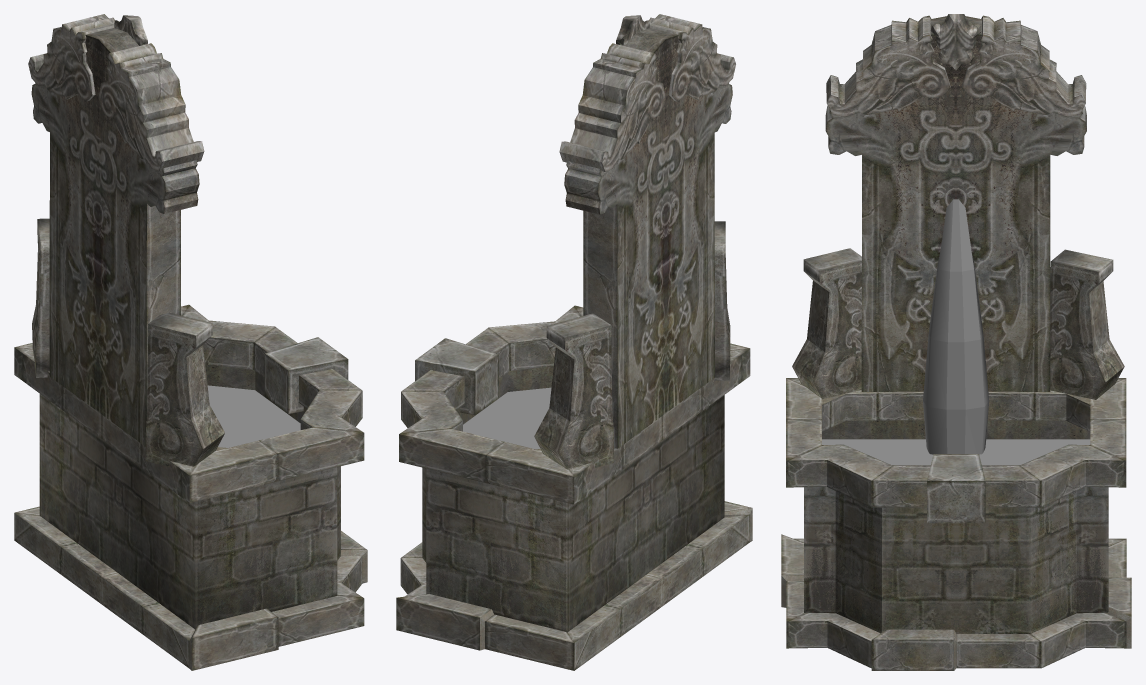
Rendered from bg_lut_lucastle_fountain01c_sm_msj.FBX.
3 views of the same model, side by side, from view 1: azimuth 30°, elevation 25°; view 2: azimuth 150°, elevation 25°; view 3: azimuth 270°, elevation 25° (orthographic). The views are drawn at different scales.
Parts seen in each view (by area): view 1: bg_lut_lucastle_fountain01c_sm_msj; view 2: bg_lut_lucastle_fountain01c_sm_msj; view 3: bg_lut_lucastle_fountain01c_sm_msj.
Boxes of the visible parts, <box> form: bg_lut_lucastle_fountain01c_sm_msj: <box>14,14,367,670</box>; bg_lut_lucastle_fountain01c_sm_msj: <box>396,14,752,670</box>; bg_lut_lucastle_fountain01c_sm_msj: <box>781,14,1131,670</box>.
Bounding box in the file's own units: 141 × 322 × 181.
